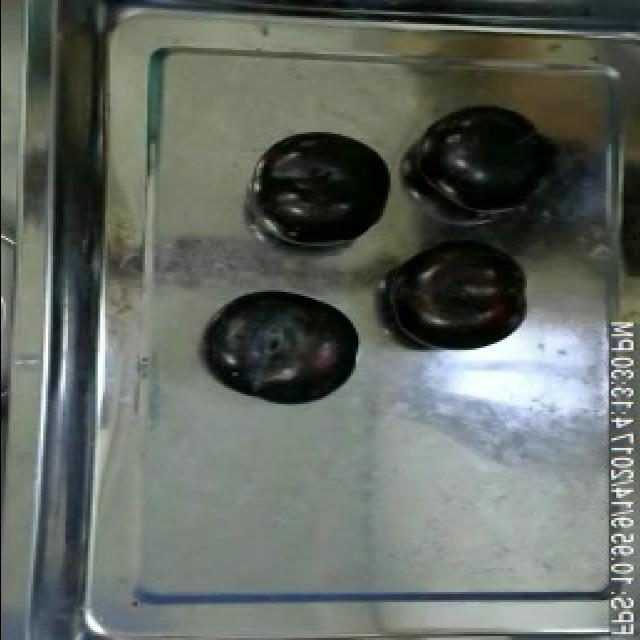Fruit: (206, 286, 365, 412), (384, 234, 534, 356), (409, 100, 561, 218), (253, 128, 397, 252), (496, 62, 630, 156)
